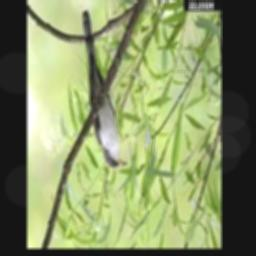Cuckoo: (81, 10, 126, 168)
